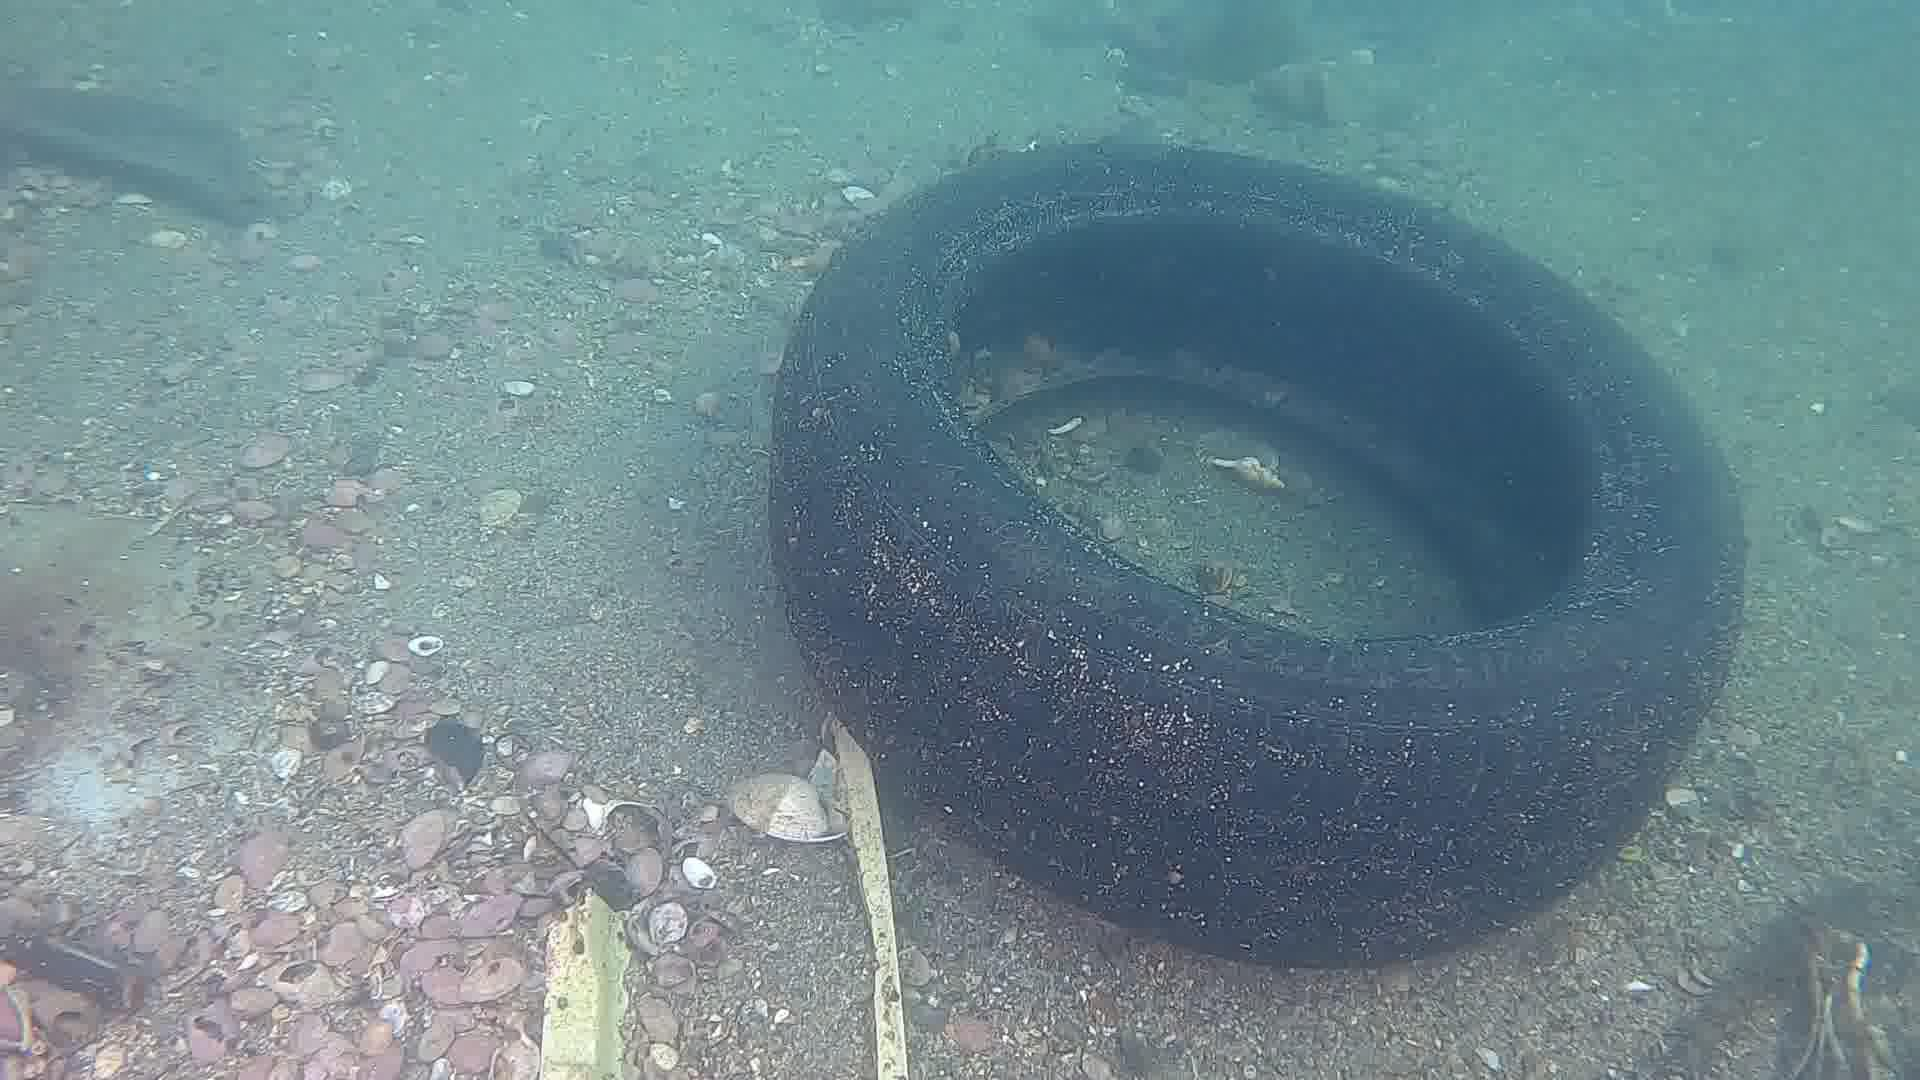tire: (766, 140, 1753, 971)
